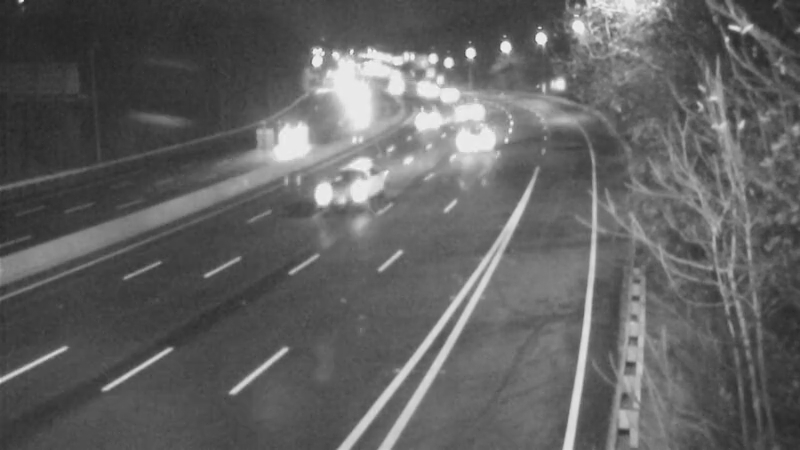vehicle: (287, 157, 367, 237), (434, 86, 484, 136), (398, 96, 448, 146), (441, 119, 491, 169), (267, 111, 317, 161)
